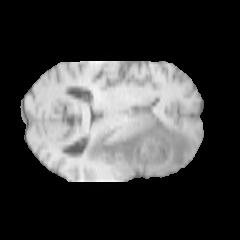glioma: (85, 112, 192, 175)
